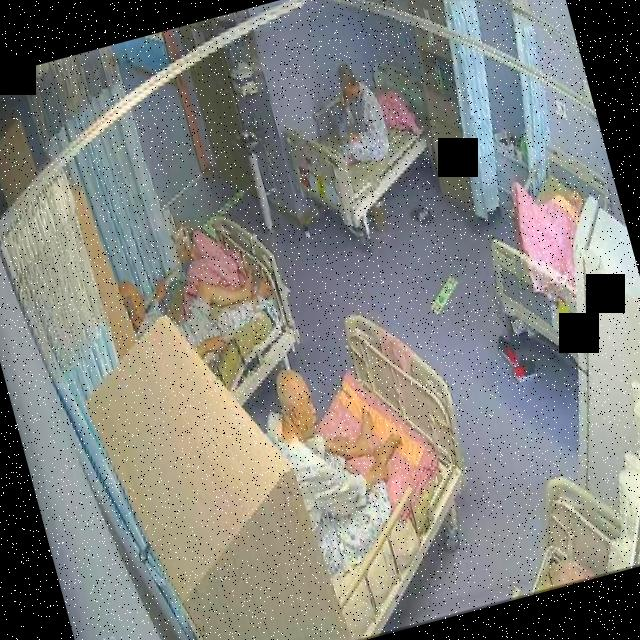bed: (256, 296, 506, 640), (458, 128, 640, 380), (143, 206, 313, 423), (270, 52, 447, 238)
lie: (118, 240, 284, 376)
patient: (246, 337, 429, 580), (116, 238, 284, 378), (316, 56, 398, 176)
sit: (247, 336, 427, 578), (318, 56, 396, 176)
